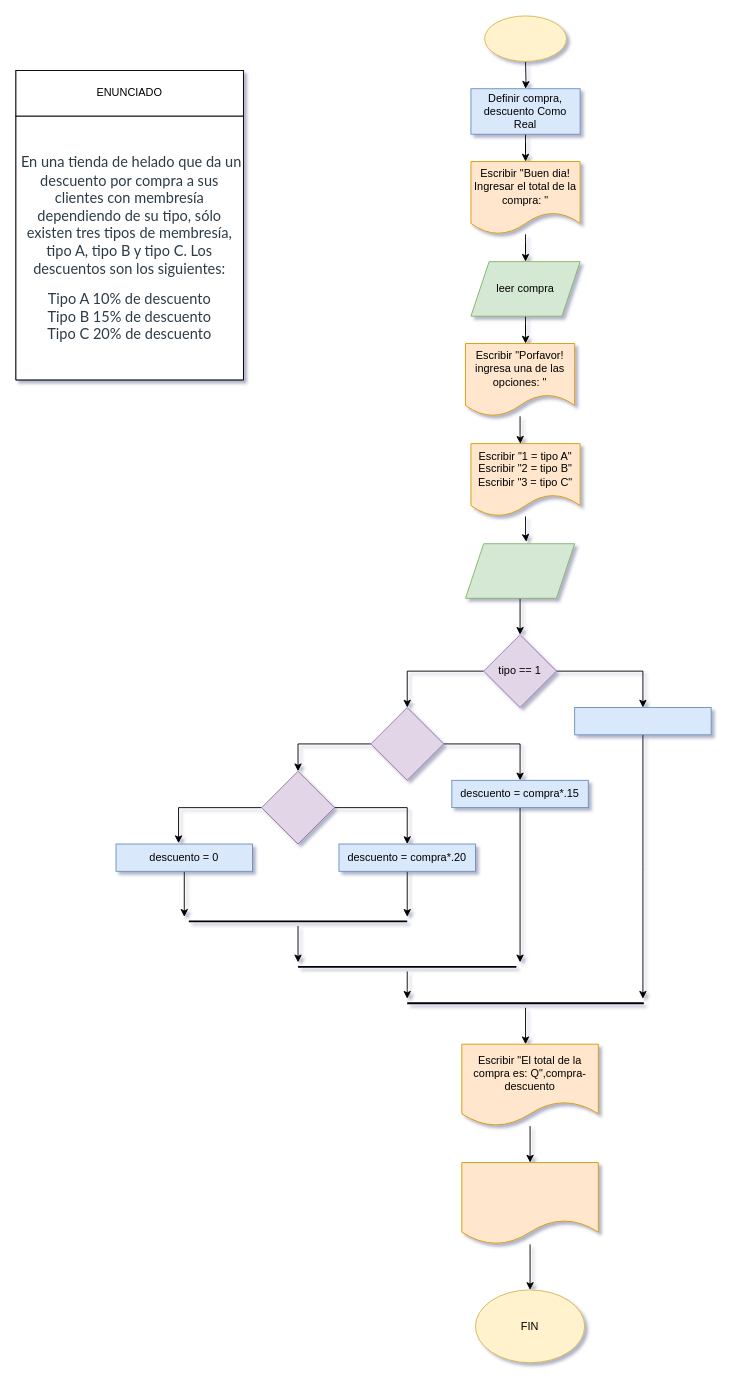
Image size: 733x1384. Some labels were removed from this diagram. The shapes that lost their labels are listed below. From the top down, each one's centre as x and y in pixels, then its label:
pixel 525 38: INICIO
pixel 520 570: leer tipo
pixel 642 721: descuento = compra*.10
pixel 407 743: tipo == 2
pixel 297 807: tipo == 3
pixel 529 1203: Escribir "El descuento aplicado es: Q",descuento
